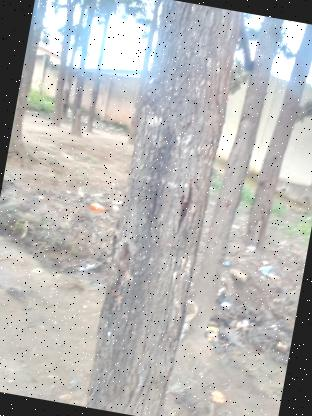tree: (70, 0, 246, 416), (168, 11, 288, 390), (230, 17, 312, 267), (1, 0, 59, 192), (61, 0, 104, 137)
